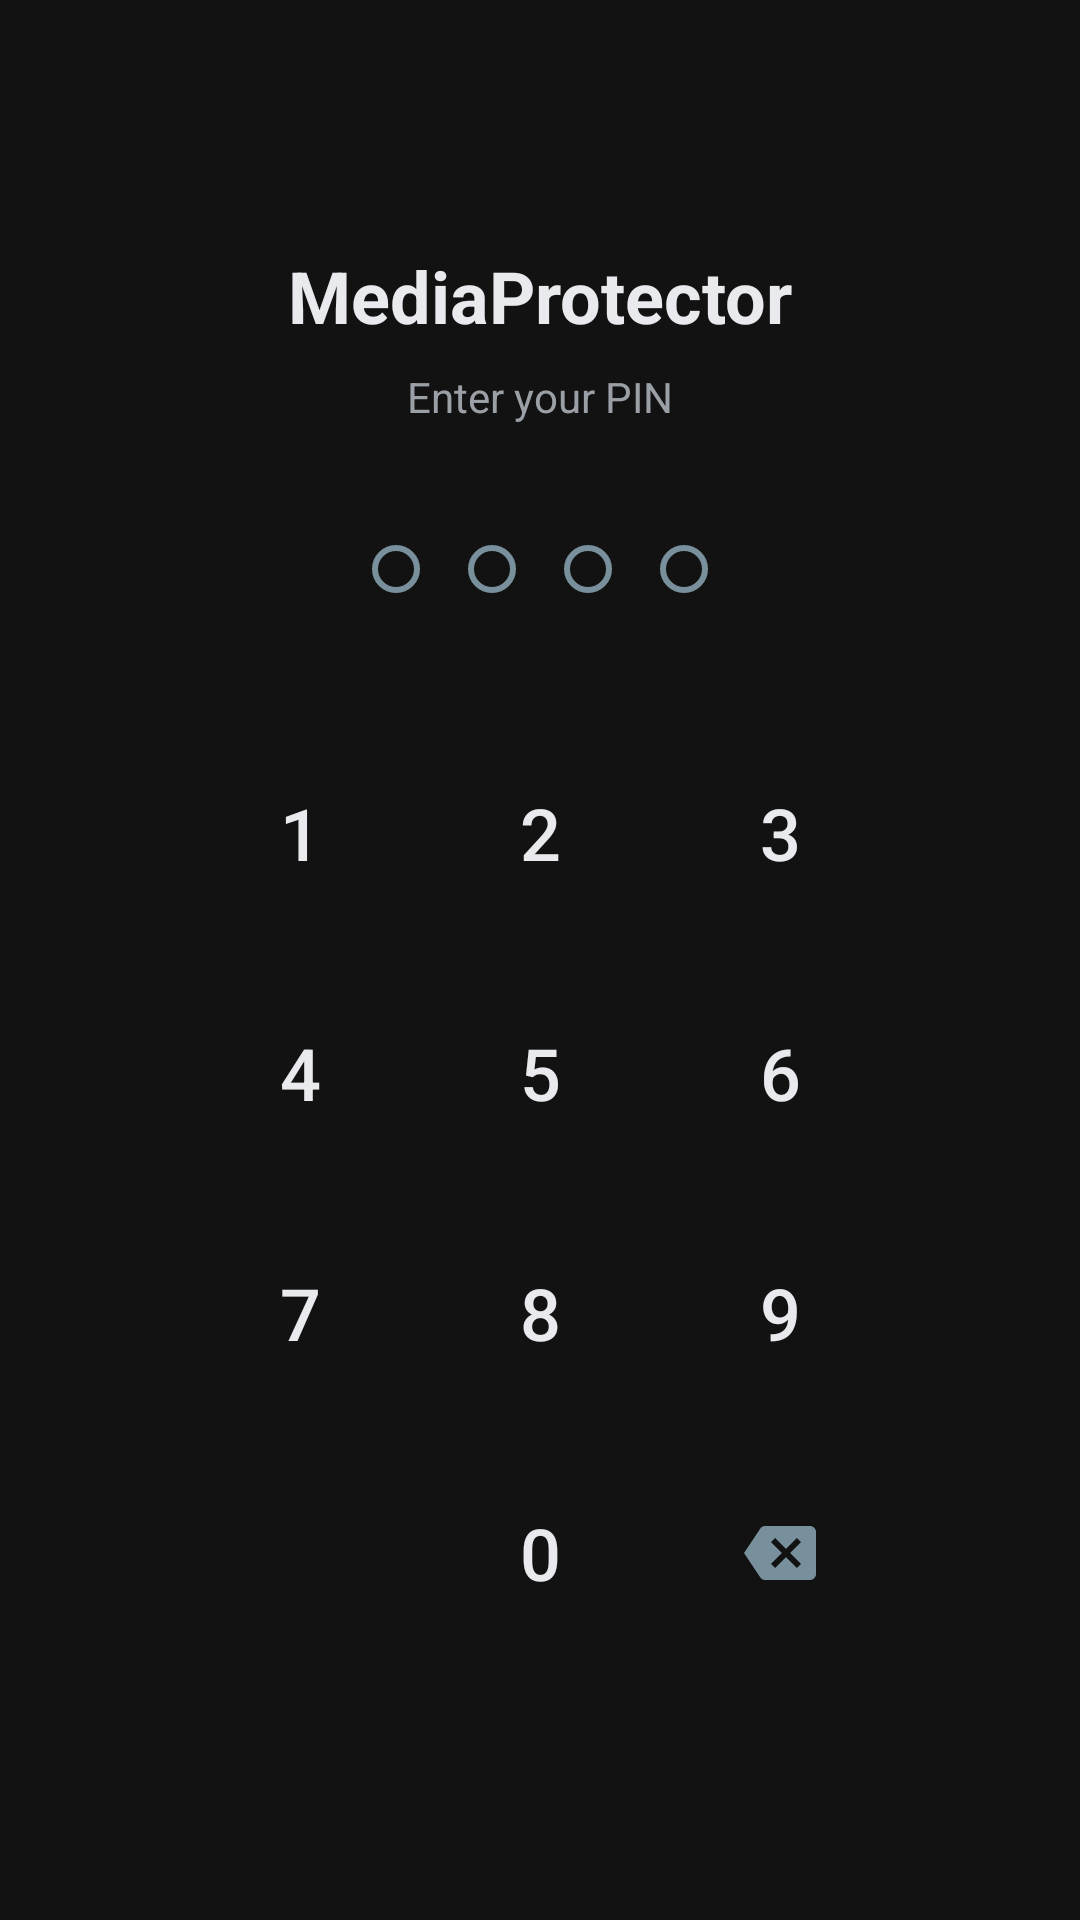

Icon bounding boxes for this 1080 × 1920 phone screenshot, format (x1, y1, x2, y2):
Backspace: (744, 1526, 816, 1580)
pin dot empty: (372, 545, 420, 593), (468, 545, 516, 593), (564, 545, 612, 593), (660, 545, 708, 593)
